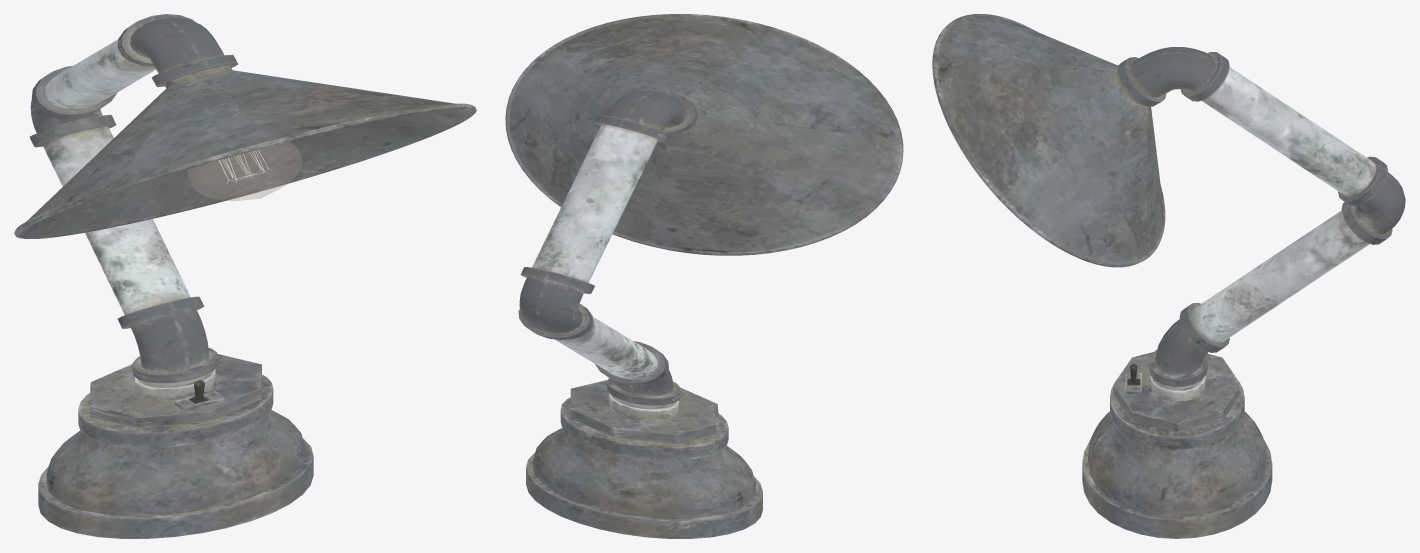
The model's file is ph-industrial-pipe-lamp.glb.
The picture shows the model from 3 angles, left to right: view 1: azimuth 30°, elevation 25°; view 2: azimuth 150°, elevation 25°; view 3: azimuth 270°, elevation 25°; orthographic projection. The views are drawn at different scales.
Visible parts, largest first — view 1: industrial_pipe_lamp, industrial_pipe_lamp_bulb; view 2: industrial_pipe_lamp; view 3: industrial_pipe_lamp.
Part boxes in pixels (left/top/right/bottom): industrial_pipe_lamp: left=14, top=14, right=476, bottom=538; industrial_pipe_lamp_bulb: left=188, top=141, right=302, bottom=200; industrial_pipe_lamp: left=505, top=14, right=903, bottom=538; industrial_pipe_lamp: left=932, top=14, right=1405, bottom=538.
Bounding box in the file's own units: 1 × 1 × 1.
Materials: 2 (2 with a texture image).
